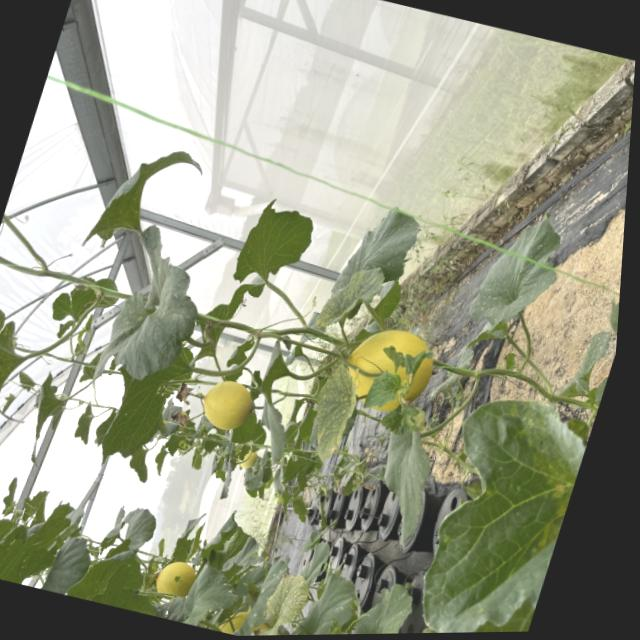CMV: (291, 358, 369, 462), (305, 252, 391, 342), (247, 561, 316, 636)
downy mildew: (380, 369, 602, 634), (87, 220, 222, 391), (459, 203, 572, 345), (356, 420, 452, 556), (0, 291, 35, 481), (290, 558, 370, 635)
healthy: (215, 191, 323, 321), (342, 576, 418, 634)
